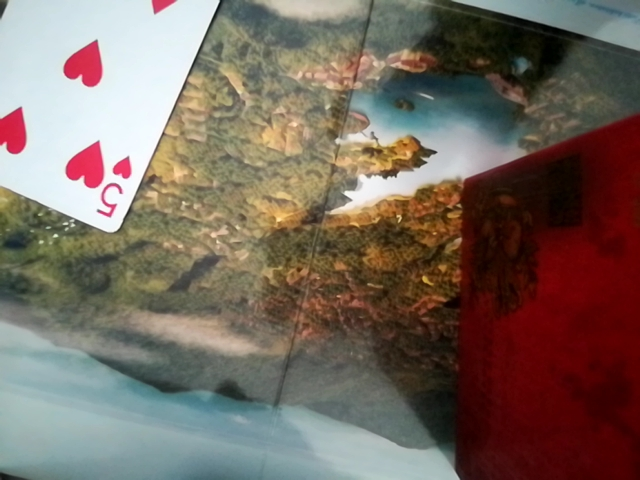hx 5: (0, 0, 238, 243)
